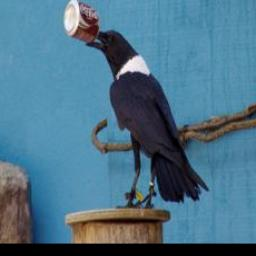Crow: (83, 27, 209, 211)
